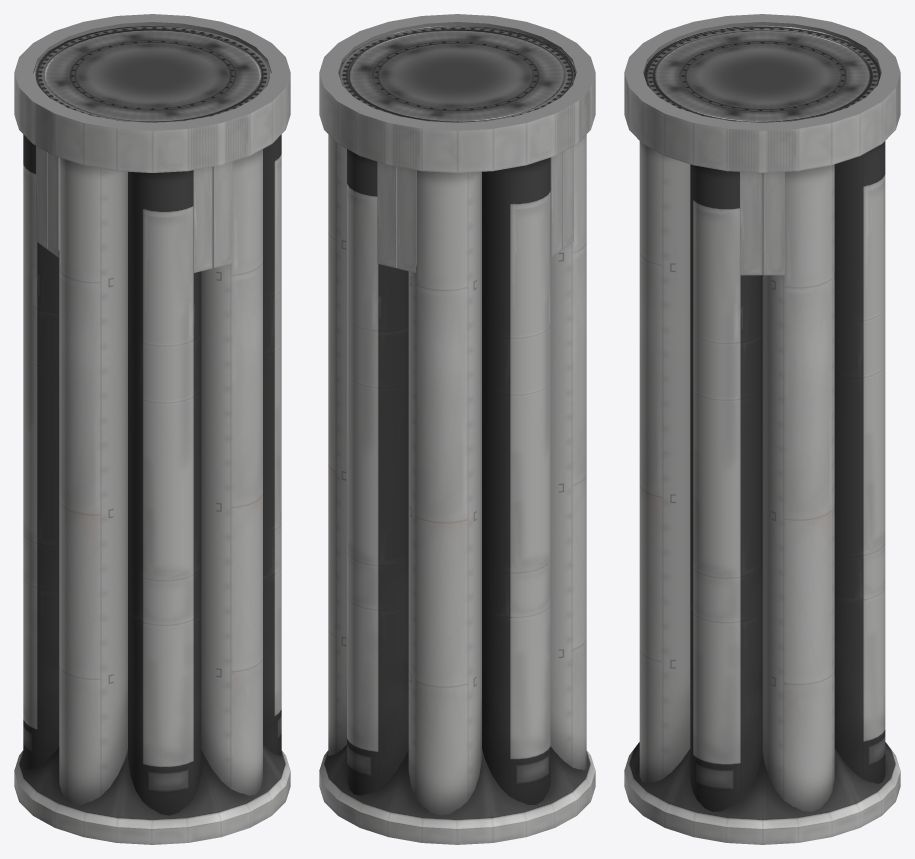
The model's file is Saturn_S1_Tankage.dae.
3 views of the same model, side by side, from view 1: azimuth 30°, elevation 25°; view 2: azimuth 150°, elevation 25°; view 3: azimuth 270°, elevation 25° (orthographic).
Parts seen in each view (by area): view 1: polySurface13, polySurface12; view 2: polySurface13, polySurface12; view 3: polySurface13, polySurface12.
Part boxes in pixels (bbox=[...]): polySurface13: bbox=[14, 14, 290, 844]; polySurface12: bbox=[33, 25, 271, 122]; polySurface13: bbox=[319, 14, 595, 844]; polySurface12: bbox=[338, 25, 576, 122]; polySurface13: bbox=[624, 14, 900, 844]; polySurface12: bbox=[643, 25, 881, 122].
Size of the model in its own units: 3.75 by 10.69 by 3.75.
